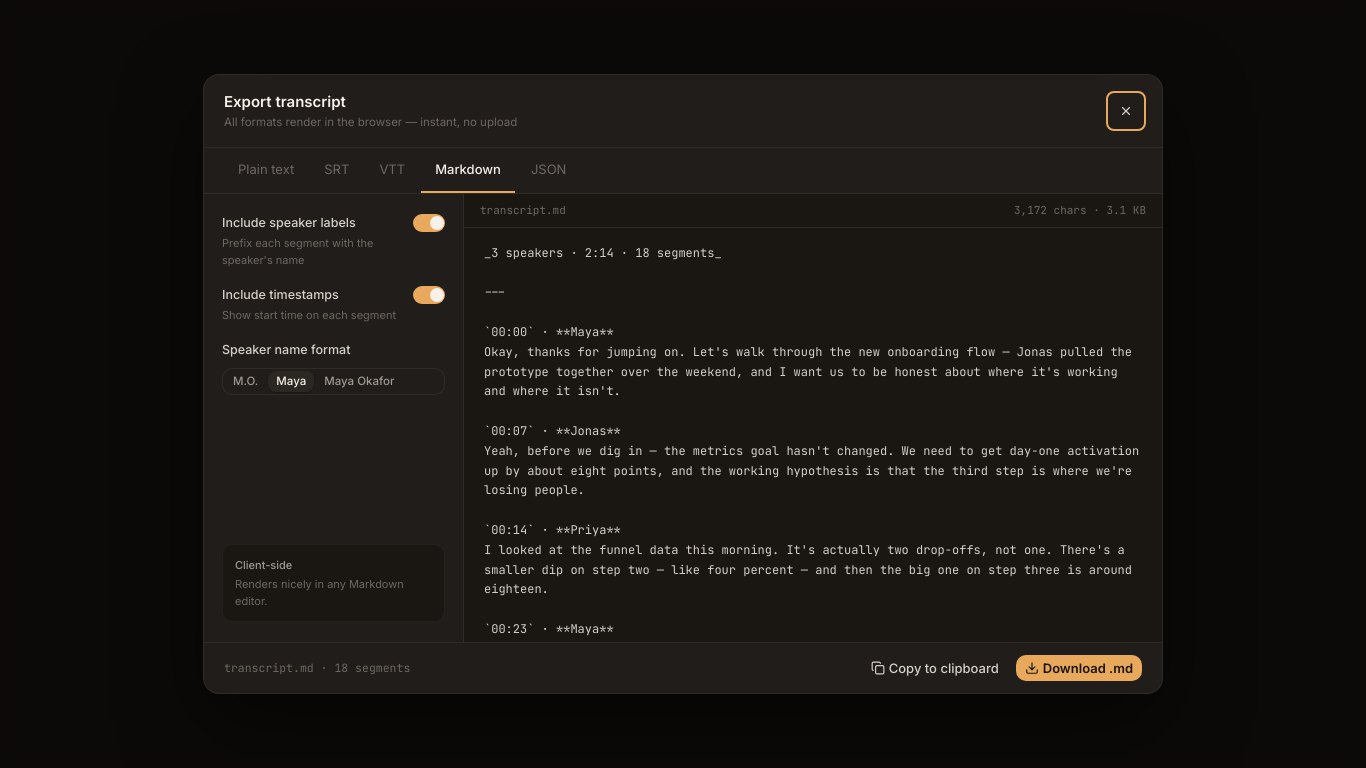
Test: ExportModal — download › changes filename + extension when format switches
The width and height of the screenshot is (1366, 768).
Click the tab "JSON" at (549, 171), box [517,148,580,193]
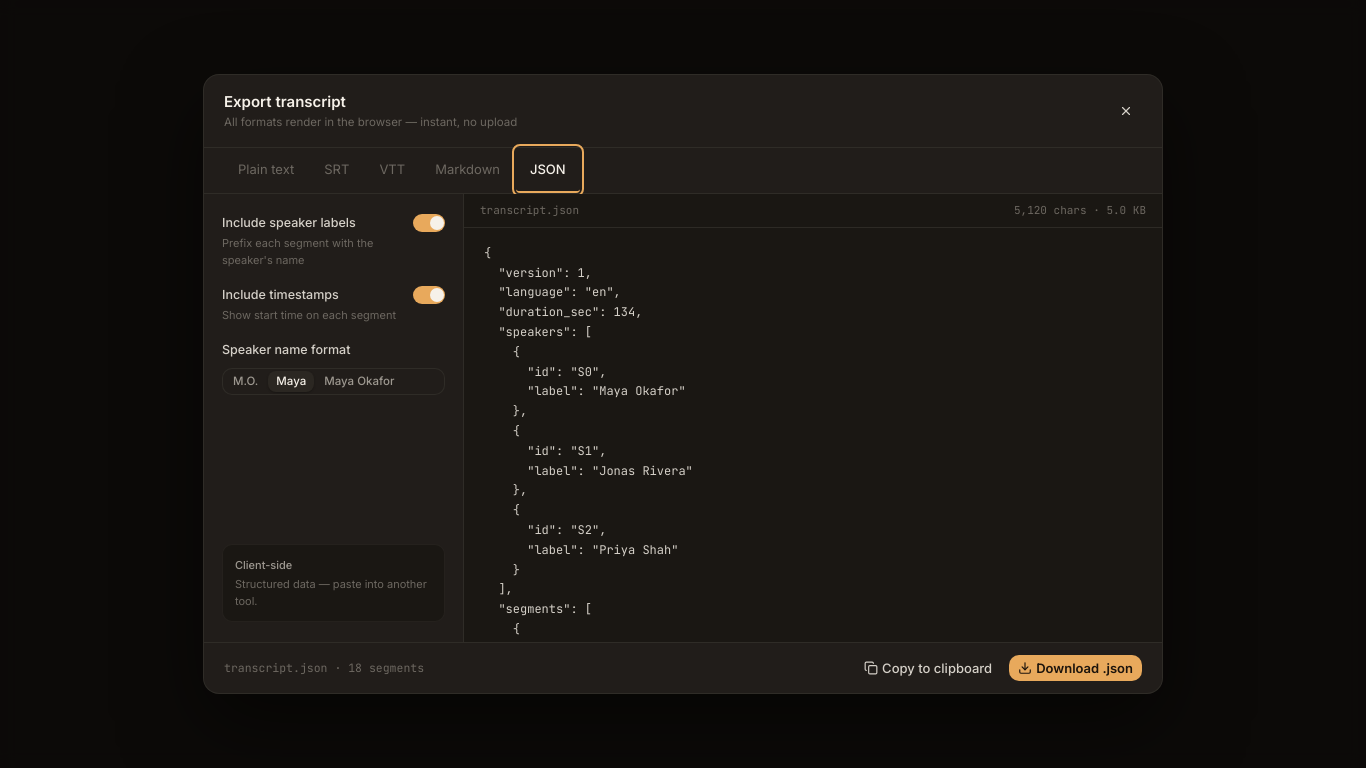
Expected: the button with aria-label "Download json" is shown, [1009,655,1142,681]
Expected: the text "transcript.json · 18 segments" is shown, [224,659,424,677]
